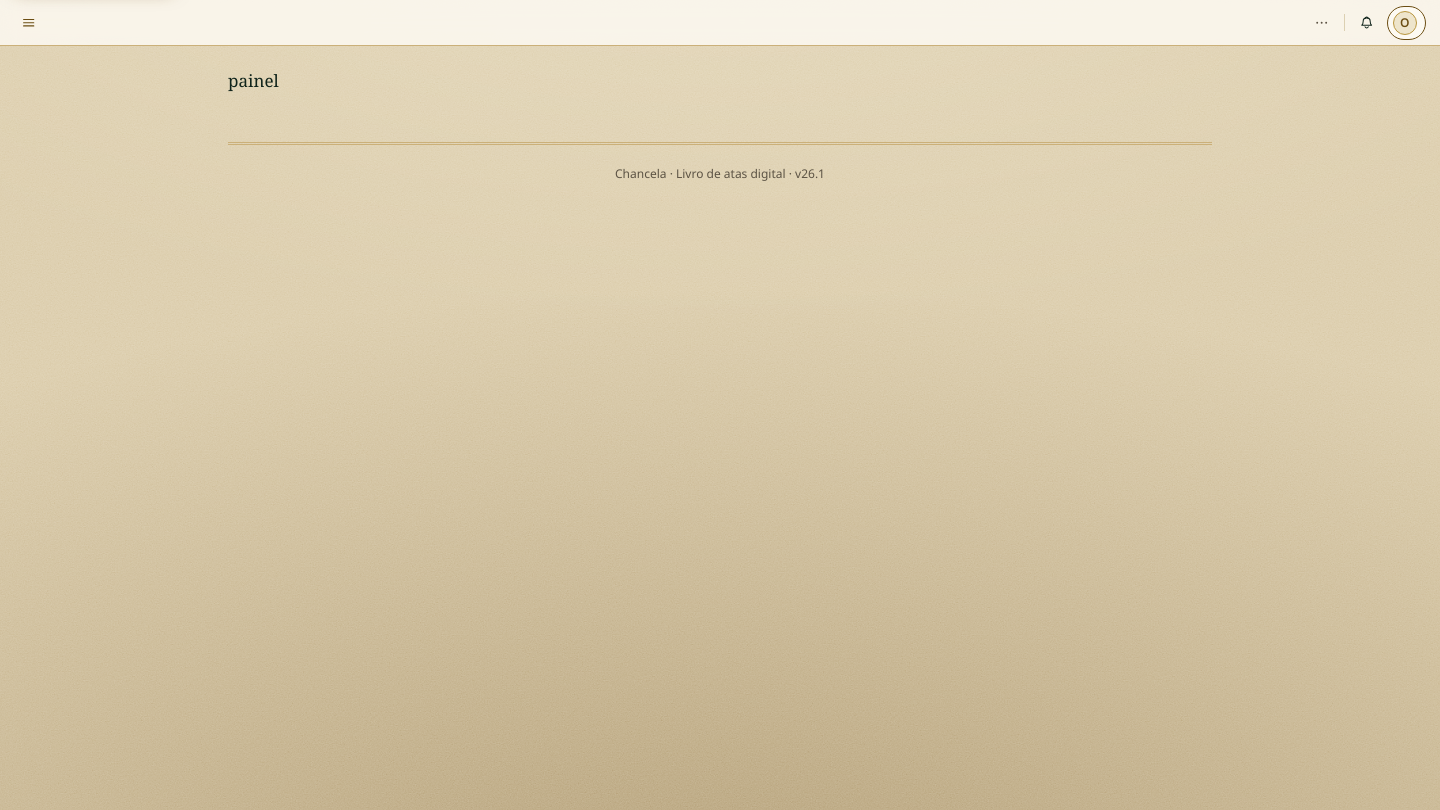
Test: Top bar — narrow tier (utilities collapse too, brand dropped) › folds the utility glyphs into a "more" menu, drops the brand, keeps bell + picker
expect the text "painel" is shown: met, box [228, 69, 279, 92]
expect the button with test id "topbar-tabs-menu" is shown: met, box [14, 7, 44, 38]
Step 1. Click the button with test id "topbar-utility-menu" → coordinates (1321, 22), box [1306, 7, 1336, 38]
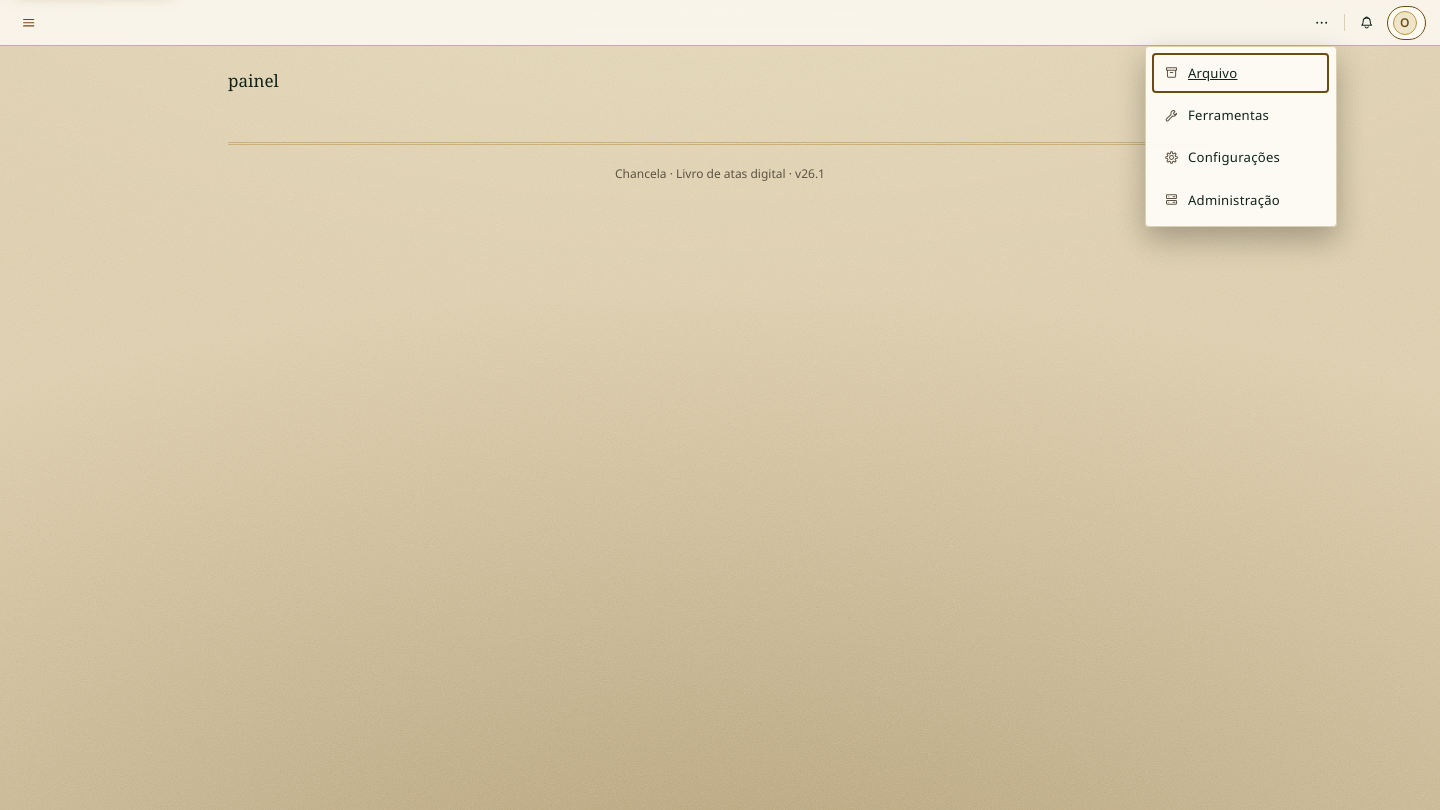
expect the menu item "Arquivo" is shown: met, box [1164, 64, 1238, 82]
expect the menu item "Ferramentas" is shown: met, box [1164, 106, 1269, 124]
expect the menu item "Configurações" is shown: met, box [1164, 148, 1280, 166]
